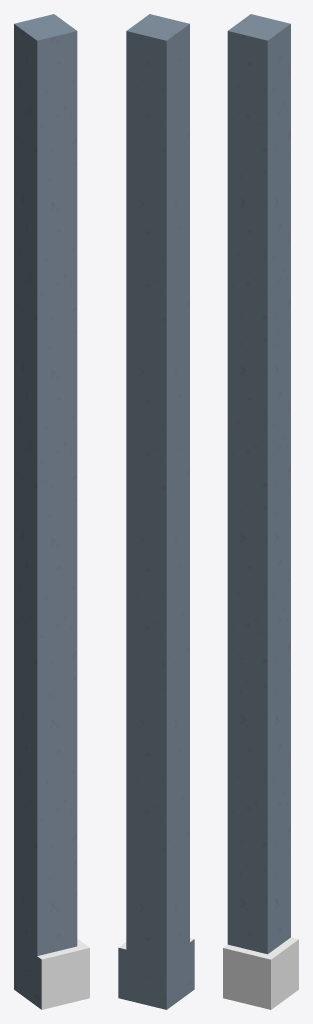
File: SM_Bld_House_CornerPiece_01.obj
3 renders of one model, left to right at view 1: azimuth 30°, elevation 25°; view 2: azimuth 150°, elevation 25°; view 3: azimuth 330°, elevation 25°, orthographic.
Visible parts, largest first — view 1: SM_Bld_House_CornerPiece_01_mi_HouseInteriorWalls_02, SM_Bld_House_CornerPiece_01_mi_WhiteTrim; view 2: SM_Bld_House_CornerPiece_01_mi_HouseInteriorWalls_02; view 3: SM_Bld_House_CornerPiece_01_mi_HouseInteriorWalls_02, SM_Bld_House_CornerPiece_01_mi_WhiteTrim.
Boxes of the visible parts, x1,y1,x2,y2 form: SM_Bld_House_CornerPiece_01_mi_HouseInteriorWalls_02: [14, 14, 77, 1009]; SM_Bld_House_CornerPiece_01_mi_WhiteTrim: [37, 939, 89, 1009]; SM_Bld_House_CornerPiece_01_mi_HouseInteriorWalls_02: [118, 14, 194, 1009]; SM_Bld_House_CornerPiece_01_mi_HouseInteriorWalls_02: [227, 14, 290, 954]; SM_Bld_House_CornerPiece_01_mi_WhiteTrim: [223, 937, 298, 1009].
Bounding box in the file's own units: 0.3 × 5.75 × 0.3.
Materials: 2 (1 with a texture image).
